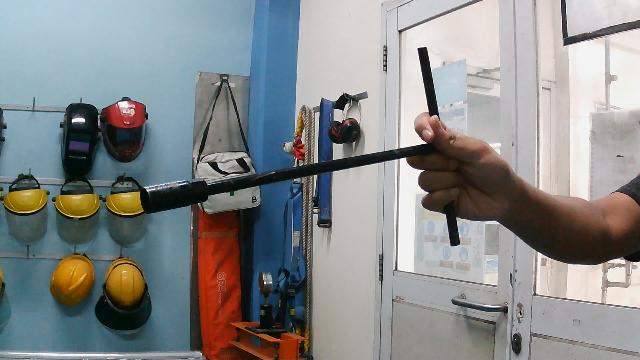kunci_t: (132, 32, 473, 293)
